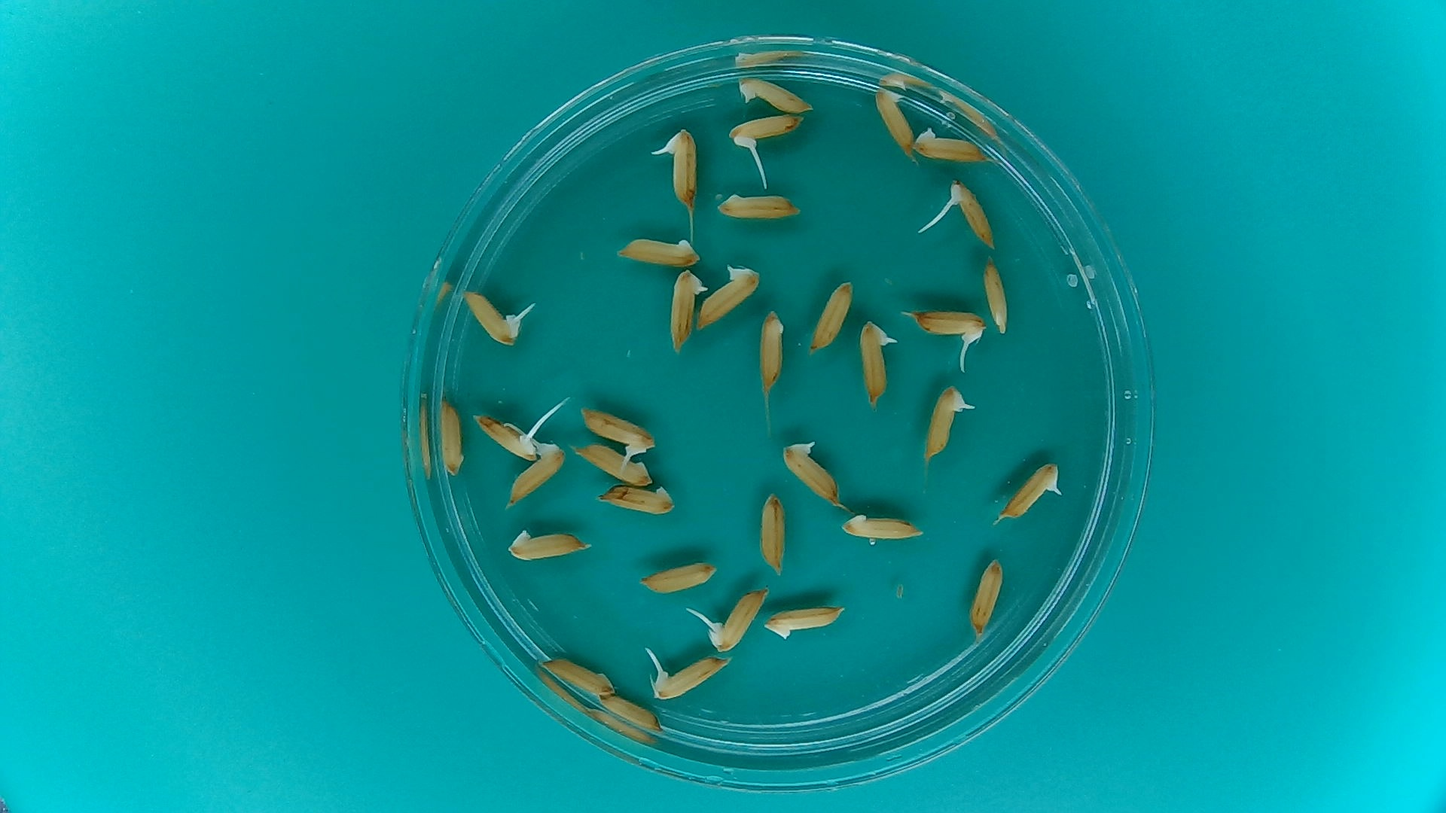no: (691, 265, 758, 333), (502, 523, 596, 564), (965, 553, 1007, 641), (761, 601, 850, 642), (574, 443, 655, 487), (835, 507, 928, 545), (538, 653, 618, 697), (909, 124, 992, 166), (712, 187, 804, 224), (754, 305, 789, 397), (636, 557, 719, 595), (755, 489, 790, 577), (612, 233, 697, 269), (873, 85, 914, 155), (813, 281, 853, 352), (436, 394, 468, 477), (597, 692, 662, 732), (735, 79, 810, 112), (599, 484, 676, 516), (983, 253, 1011, 336)
yes: (784, 443, 847, 510), (507, 440, 569, 504), (923, 387, 972, 464), (999, 464, 1063, 522), (649, 654, 725, 702), (711, 589, 768, 653), (579, 410, 657, 455), (667, 268, 706, 355), (474, 414, 541, 464), (911, 305, 986, 348), (947, 182, 996, 247), (855, 321, 890, 408), (466, 292, 522, 346), (730, 111, 805, 149), (667, 125, 700, 206)
